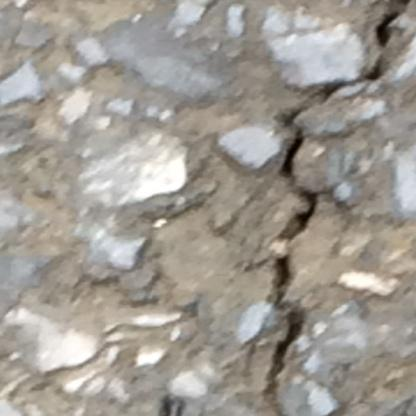Cracks: (311, 0, 416, 109), (260, 251, 313, 416), (273, 106, 323, 246)
